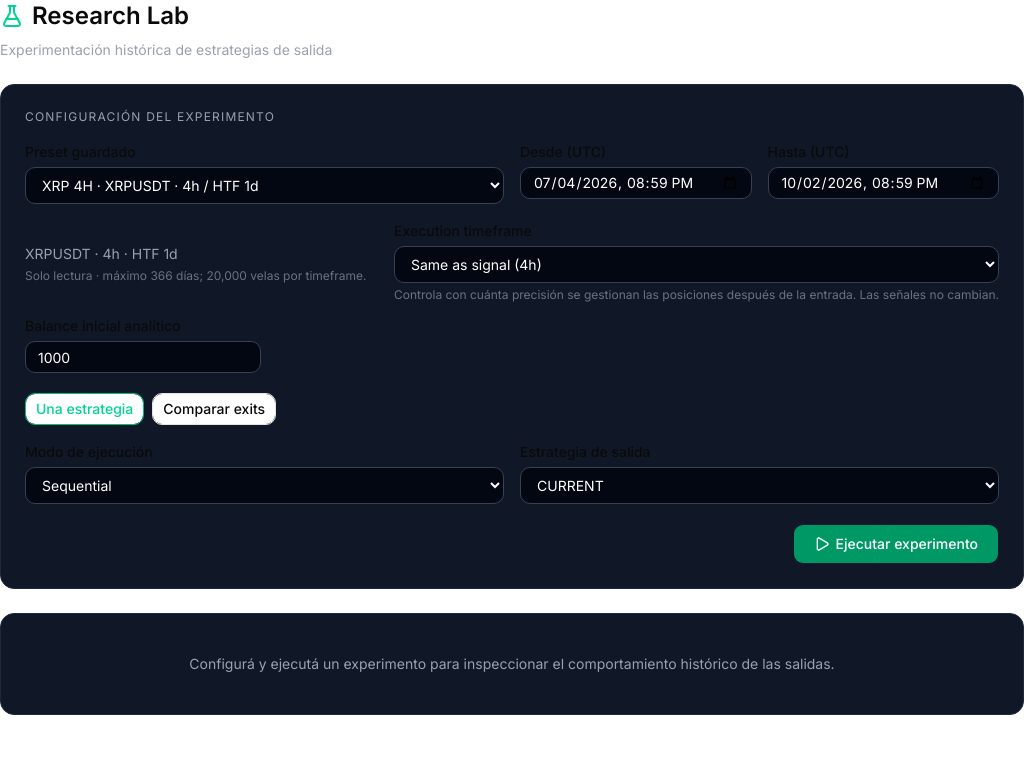
Execution timeframe in the results › shows signal, execution and trend in the header
Expected: the dropdown labelled "Preset guardado" is shown, [25,167,504,204]
Click the button "Ejecutar experimento".
click(896, 544)  # box [792,524,999,564]
(page scrolled)
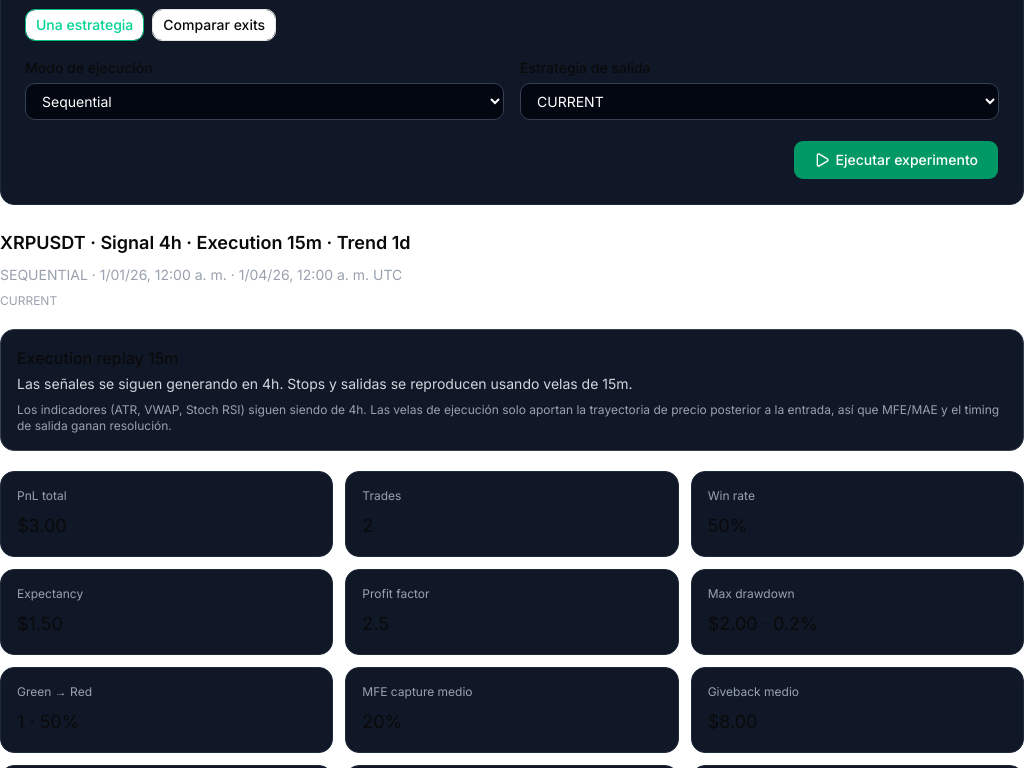
Expected: the heading "XRPUSDT · Signal 4h · Execution 15m · Trend 1d" is shown, [0,232,411,253]
Expected: the text "Las señales se siguen generando en 4h. Stops y salidas se reproducen usando velas de 15m." is shown, [17,375,633,392]
